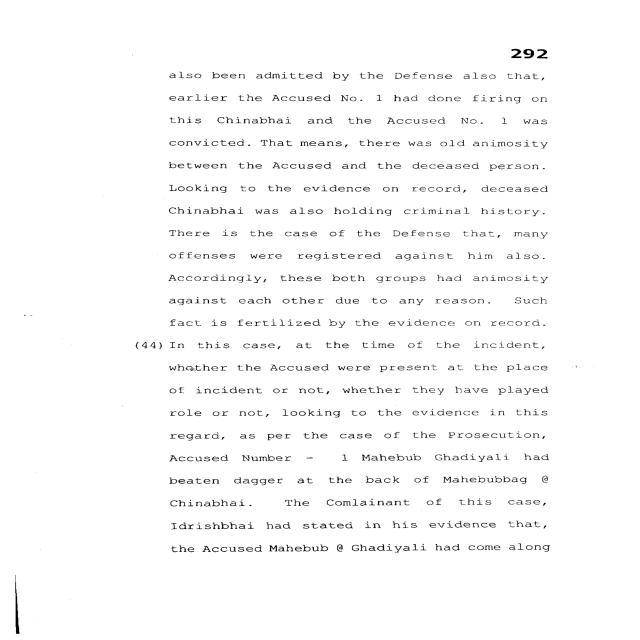page-number: (432, 0, 633, 64)
